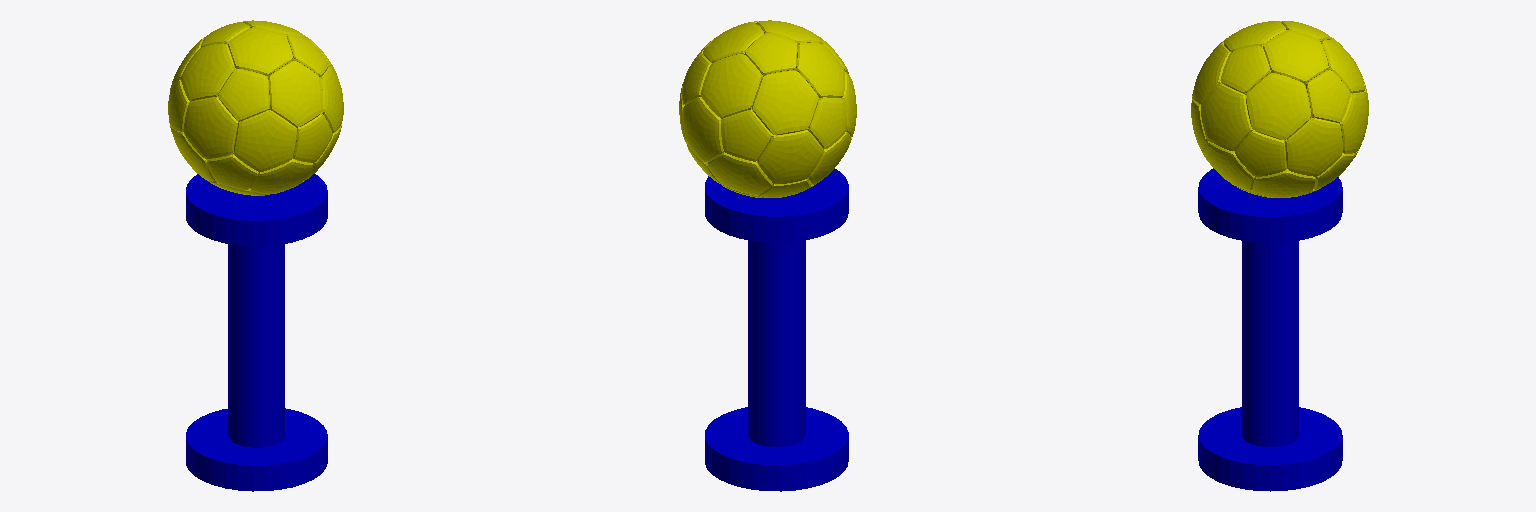
The robot description file, URDF, robot "physics":
<?xml version="1.0"?>
<robot name="physics">
  <link name="base_link">
    <visual>
      <geometry>
        <cylinder length="0.02" radius="0.05"/>
      </geometry>
      <material name="blue">
        <color rgba="0 0 .8 1"/>
      </material>
    </visual>
    <collision>
      <geometry>
        <cylinder length="0.02" radius="0.05"/>
      </geometry>
    </collision>
    <inertial>
      <mass value="0.01"/>
      <inertia ixx="0.000002" ixy="0.0" ixz="0.0" iyy="0.000002" iyz="0.0" izz="0.000002"/>
    </inertial>
  </link>

  <link name="grasp_cylinder">
    <visual>
      <geometry>
        <cylinder length="0.18" radius="0.02"/>
      </geometry>
      <material name="blue">
        <color rgba="0 0 .8 1"/>
      </material>
    </visual>
    <collision>
      <geometry>
        <cylinder length="0.12" radius="0.01"/>
      </geometry>
    </collision>
    <inertial>
      <mass value="0.001"/>
      <inertia ixx="1e-9" ixy="0" ixz="0" iyy="1e-9" iyz="0" izz="1e-9"/>
    </inertial>
  </link>

  <joint name="jfixed1" type="fixed">
    <parent link="base_link"/>
    <child link="grasp_cylinder"/>
    <origin xyz="0 0 0.09"/>
  </joint>


  <link name="top_cylinder">
    <visual>
      <geometry>
        <cylinder length="0.02" radius="0.05"/>
      </geometry>
      <material name="blue">
        <color rgba="0 0 .8 1"/>
      </material>
    </visual>
    <collision>
      <geometry>
        <cylinder length="0.02" radius="0.05"/>
      </geometry>
    </collision>
    <inertial>
      <mass value="0.001"/>
      <inertia ixx="1e-9" ixy="0" ixz="0" iyy="1e-9" iyz="0" izz="1e-9"/>
    </inertial>
  </link>

  <joint name="jfixed2" type="fixed">
    <parent link="grasp_cylinder"/>
    <child link="top_cylinder"/>
    <origin xyz="0 0 0.1"/>
  </joint>

  <link name="duck_stuff">
    <contact>
      <lateral_friction value="1.0"/>
      <rolling_friction value="0.0"/>
      <contact_cfm value="0.0"/>
      <contact_erp value="1.0"/>
    </contact>
    <inertial>
      <origin rpy="1.57 0 0" xyz="0.0 0.02 0.0"/>
       <mass value=".001"/>
       <inertia ixx="1e-9" ixy="0" ixz="0" iyy="1e-9" iyz="0" izz="1e-9"/>
    </inertial>
    <visual>
      <origin rpy="1.57 0 0" xyz="0 0 0"/>
      <geometry>
        <mesh filename="ball.obj" scale=".07 .07 .07"/>
      </geometry>
       <material name="yellow">
	<color rgba="0.8 0.8 0 1"/>
       </material>
    </visual>
    <collision>
      <origin rpy="1.57 0 0" xyz="0 0 0"/>
      <geometry>
	 	<mesh filename="ball.obj" scale=".07 .07 .07"/>
      </geometry>
    </collision>
  </link>

    <joint name="jfixed_stuff" type="fixed">
    <parent link="top_cylinder"/>
    <child link="duck_stuff"/>
    <origin rpy="0 0 0" xyz="0 0 0.01"/>
  </joint>


</robot>

--- Facts derived from the render (not from the file) ---
Views: 3 orthographic renders of the robot side by side, from view 1: azimuth 30°, elevation 25°; view 2: azimuth 150°, elevation 25°; view 3: azimuth 270°, elevation 25°.
Model physics with 4 links and 3 joints (3 fixed), rooted at base_link, posed every joint at zero.
Links seen in each view (by area): view 1: duck_stuff, grasp_cylinder, base_link, top_cylinder; view 2: duck_stuff, grasp_cylinder, base_link, top_cylinder; view 3: duck_stuff, grasp_cylinder, base_link, top_cylinder.
Boxes of the visible links, left/top/right/bottom form: duck_stuff: left=168, top=20, right=343, bottom=195; grasp_cylinder: left=228, top=244, right=284, bottom=447; base_link: left=186, top=408, right=327, bottom=491; top_cylinder: left=186, top=174, right=327, bottom=246; duck_stuff: left=679, top=20, right=856, bottom=197; grasp_cylinder: left=748, top=240, right=805, bottom=446; base_link: left=705, top=407, right=848, bottom=491; top_cylinder: left=705, top=169, right=848, bottom=242; duck_stuff: left=1191, top=21, right=1368, bottom=197; grasp_cylinder: left=1242, top=241, right=1298, bottom=446; base_link: left=1198, top=407, right=1342, bottom=491; top_cylinder: left=1198, top=168, right=1342, bottom=242.
Size in the robot's own frame: 0.1236 by 0.1235 by 0.3324 metres.
1 mesh visuals loaded from 1 distinct referenced files (1 OBJ).